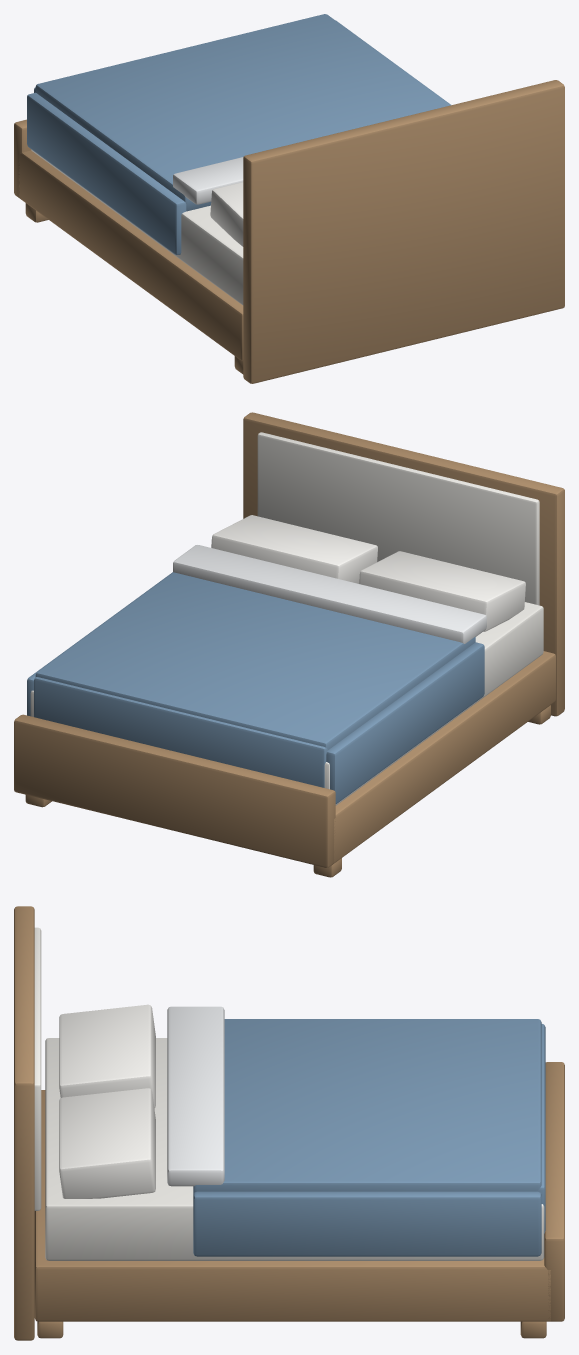
The model's file is th11_bett.glb.
3 views of the same model, one above another, from view 1: azimuth 30°, elevation 25°; view 2: azimuth 150°, elevation 25°; view 3: azimuth 270°, elevation 25° (orthographic). The views are drawn at different scales.
Parts seen in each view (by area): view 1: Cube.005, Cube.009, Cube, Cube.010, Cube.008, Cube.013, Cube.014, Cube.007; view 2: Cube.009, Cube.007, Cube.006, Cube, Cube.012, Cube.005, Cube.013, Cube.010, Cube.014, Cube.015, Cube.008; view 3: Cube.009, Cube, Cube.011, Cube.008, Cube.013, Cube.015, Cube.005, Cube.014, Cube.007, Cube.006, Cube.012.
Part boxes in pixels (x1,y1,x2,y2): Cube.005: [243, 80, 564, 383]; Cube.009: [35, 14, 450, 211]; Cube: [18, 150, 243, 360]; Cube.010: [27, 92, 186, 254]; Cube.008: [31, 149, 243, 305]; Cube.013: [173, 157, 243, 204]; Cube.014: [210, 182, 243, 246]; Cube.007: [14, 119, 31, 197]; Cube.009: [35, 572, 475, 749]; Cube.007: [14, 714, 335, 867]; Cube.006: [257, 432, 539, 605]; Cube: [333, 651, 555, 863]; Cube.012: [34, 677, 327, 787]; Cube.005: [243, 412, 564, 716]; Cube.013: [173, 545, 486, 643]; Cube.010: [326, 642, 484, 803]; Cube.014: [359, 551, 525, 631]; Cube.015: [211, 515, 377, 583]; Cube.008: [30, 602, 543, 805]; Cube.009: [193, 1019, 541, 1194]; Cube: [34, 1090, 550, 1321]; Cube.011: [193, 1191, 541, 1256]; Cube.008: [45, 1038, 544, 1260]; Cube.013: [167, 1006, 224, 1186]; Cube.015: [59, 1088, 155, 1198]; Cube.005: [14, 906, 34, 1340]; Cube.014: [59, 1004, 155, 1108]; Cube.007: [544, 1062, 564, 1321]; Cube.006: [34, 927, 41, 1210]; Cube.012: [537, 1024, 545, 1233].
Bounding box in the file's own units: 1.62 × 1.1 × 2.12.
